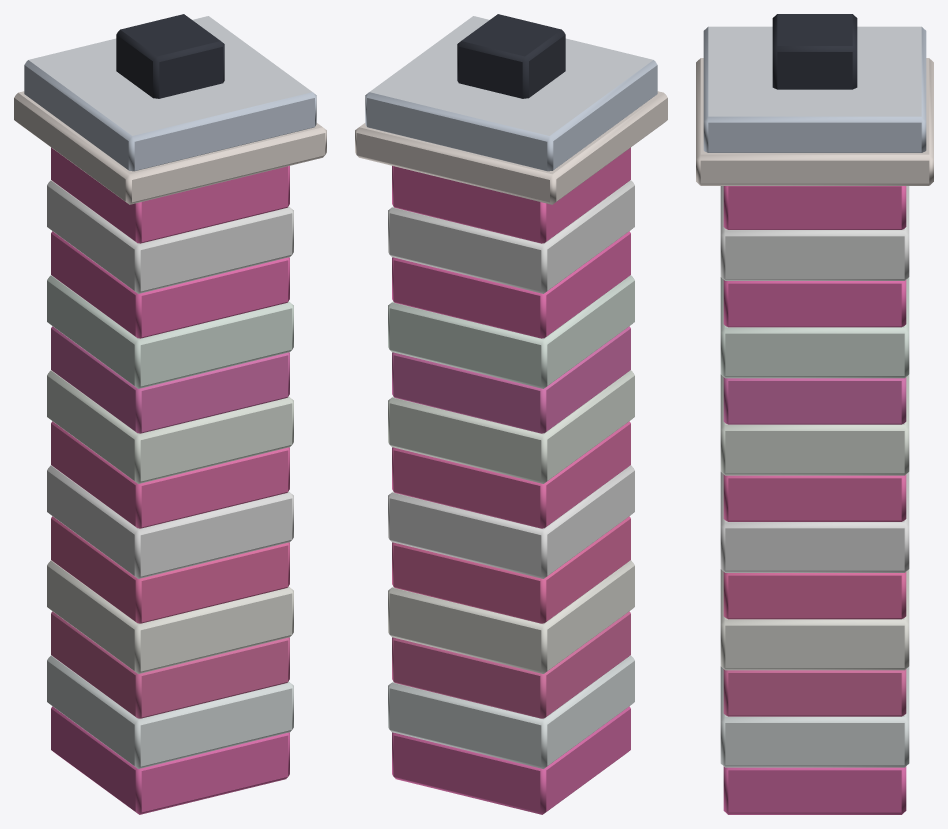
Rendered from CandyHouse_Gingerbread_Chimney.glb.
The picture shows the model from 3 angles, left to right: view 1: azimuth 30°, elevation 25°; view 2: azimuth 150°, elevation 25°; view 3: azimuth 270°, elevation 25°; orthographic projection. The views are drawn at different scales.
Parts seen in each view (by area): view 1: CandyHouse_Gingerbread_Chimney; view 2: CandyHouse_Gingerbread_Chimney; view 3: CandyHouse_Gingerbread_Chimney.
Boxes of the visible parts, x1,y1,x2,y2 form: CandyHouse_Gingerbread_Chimney: (14, 14, 326, 814); CandyHouse_Gingerbread_Chimney: (355, 14, 667, 814); CandyHouse_Gingerbread_Chimney: (696, 14, 933, 814).
Size of the model in its own units: 3.1 by 10.77 by 3.1.
